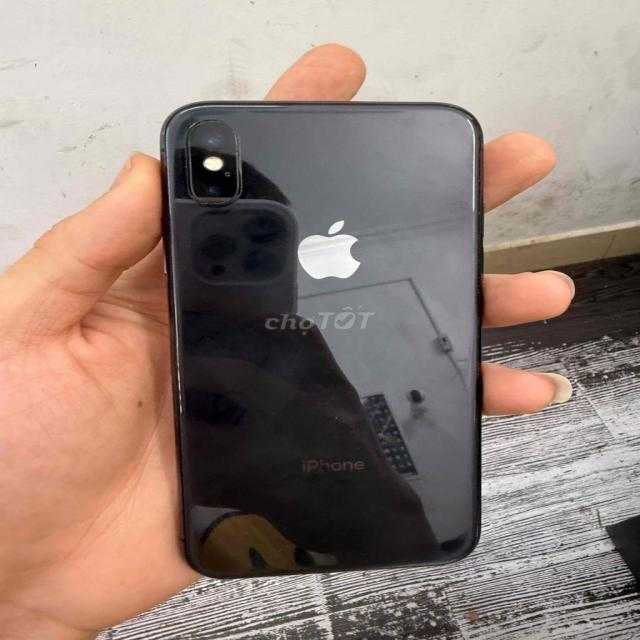scratch: (325, 397, 346, 438), (257, 542, 299, 560), (225, 142, 252, 168), (268, 516, 299, 538), (192, 194, 220, 214), (445, 100, 459, 115)
